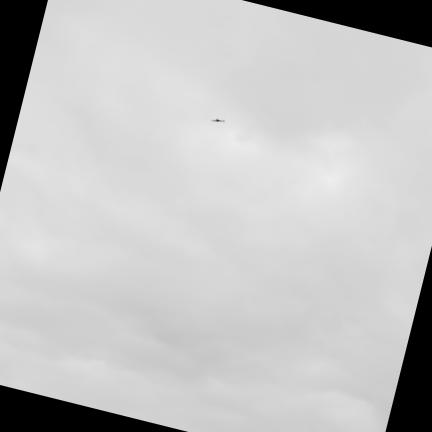Shahed: (209, 118, 225, 122)
